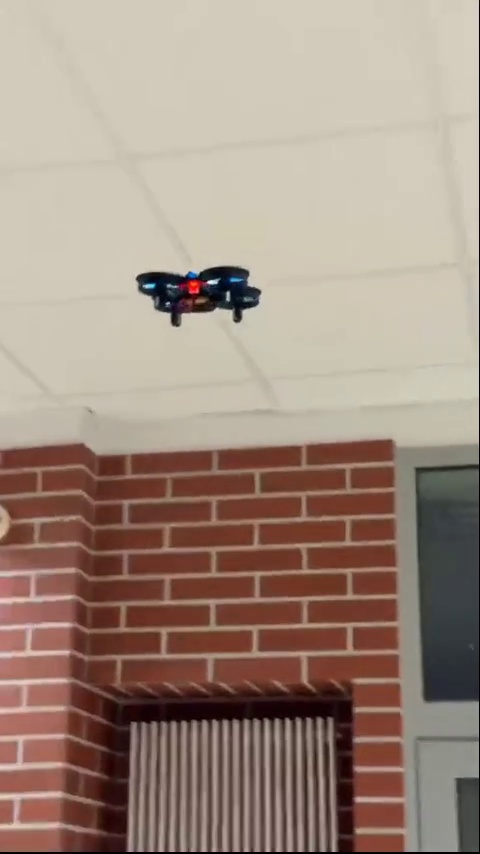drone: (135, 267, 265, 325)
